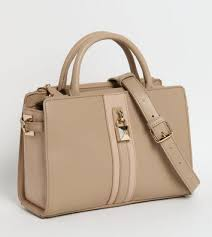bag: (21, 31, 201, 216)
